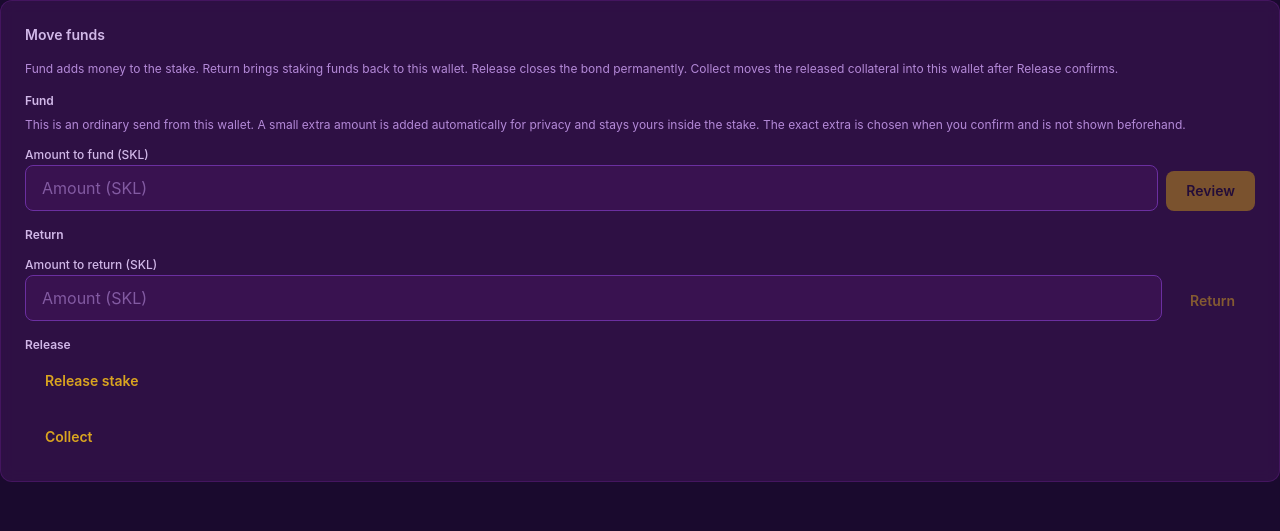
Test case: StakeActions fund reservation › does not discard a reservation the engine kept
In the field with placeholder "Amount (SKL)": (592, 188) [25,165,1158,211], type "1"
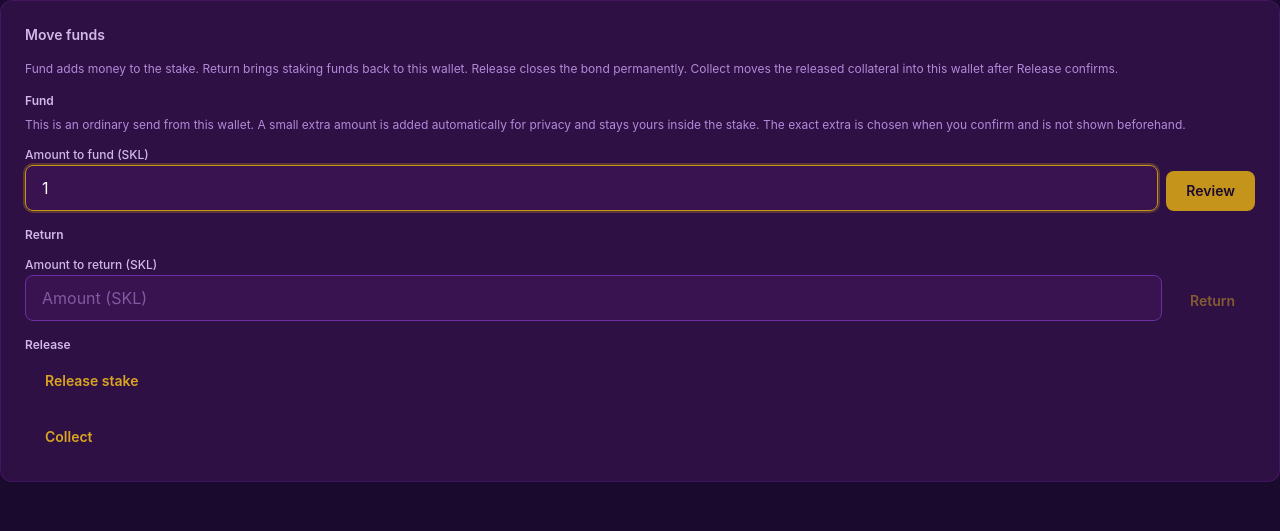
Click the button "Review": (1211, 191) [1166,171,1255,211]
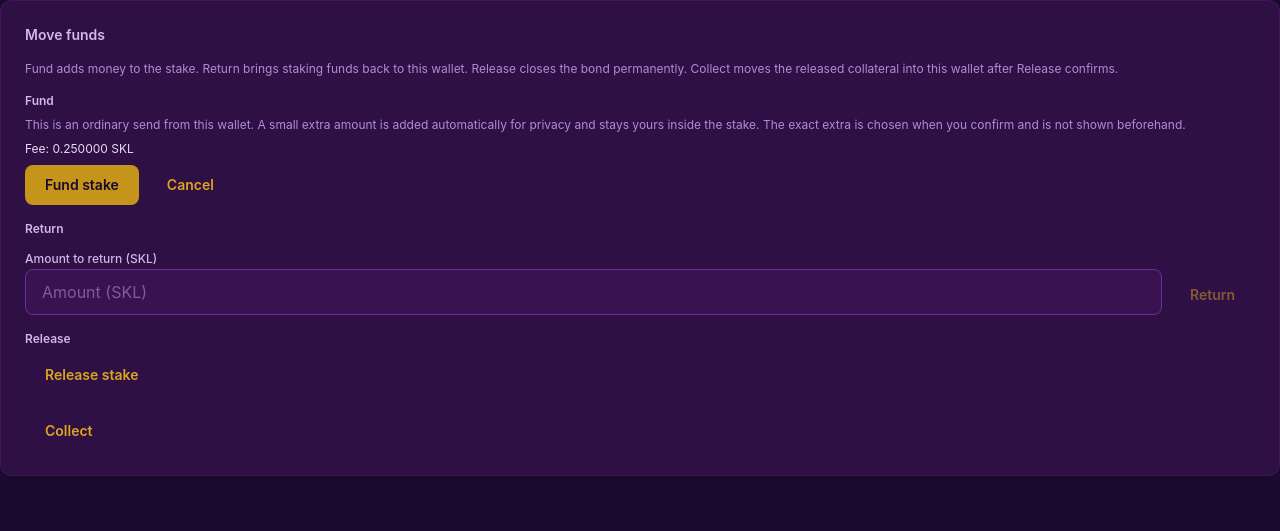
Now the text "Fee: 0.250000 SKL" is shown, box [25,141,134,156]
Click the button "Fund stake": (82, 185) [25,165,139,205]
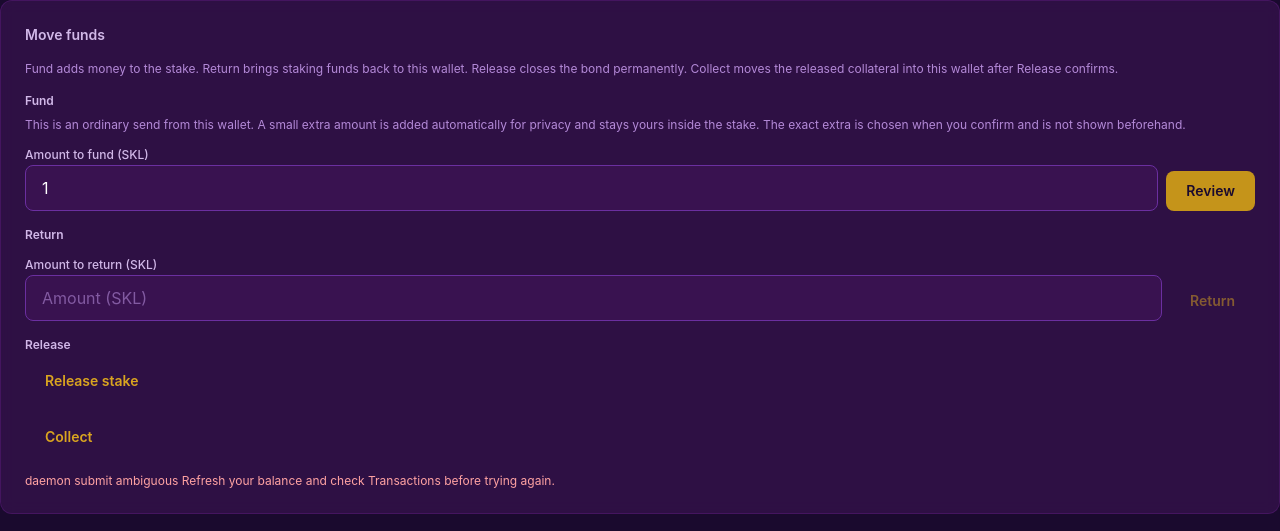
Now the text "Refresh your balance and check Transactions before trying again." is shown, box [25,473,555,488]
Now the button "Fund stake" is gone
